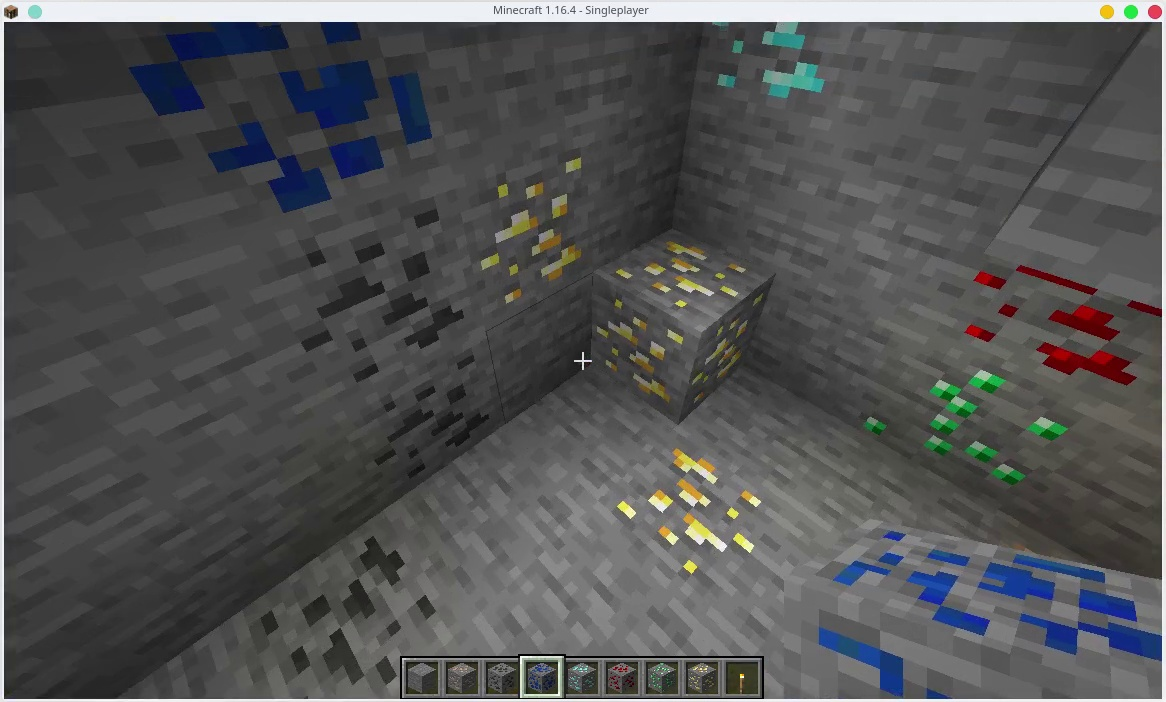gold: (599, 245, 779, 409), (609, 446, 791, 577), (471, 154, 596, 299), (688, 661, 713, 695)
